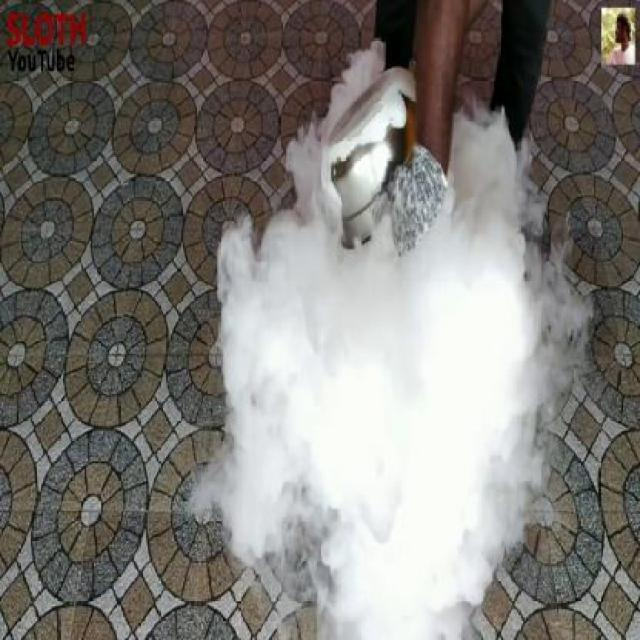smoke: (176, 167, 587, 596)
